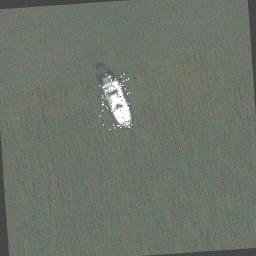boat: (96, 70, 132, 130)
